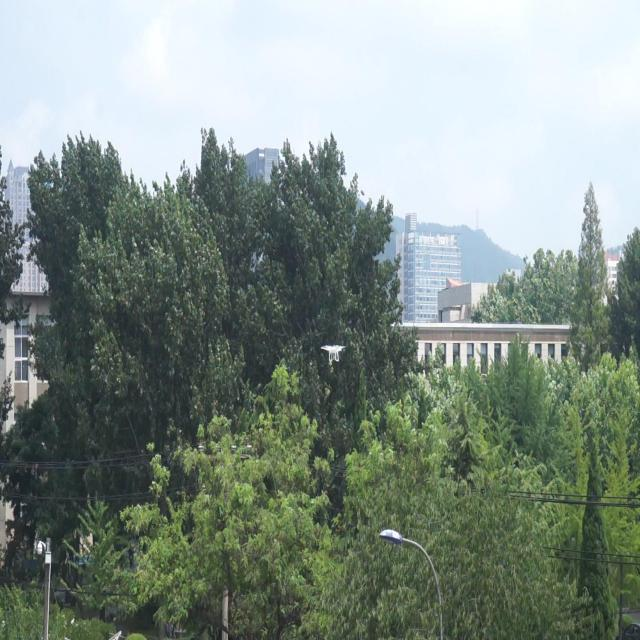UAV: (321, 345, 346, 361)
